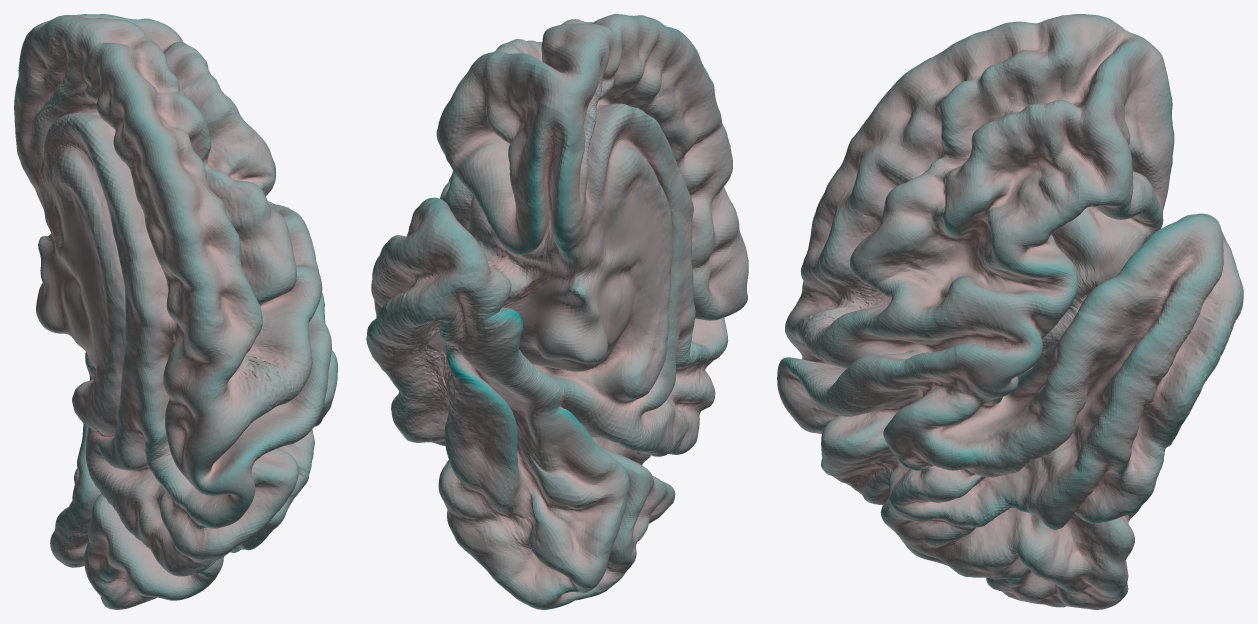
Rendered from cortex_rh.glb.
3 views of the same model, side by side, from view 1: azimuth 30°, elevation 25°; view 2: azimuth 150°, elevation 25°; view 3: azimuth 270°, elevation 25° (orthographic).
Parts seen in each view (by area): view 1: world; view 2: world; view 3: world.
Boxes of the visible parts, x1,y1,x2,y2 form: world: (14,14,337,609); world: (366,14,748,609); world: (777,14,1243,609).
Bounding box in the file's own units: 70.91 × 173 × 127.
